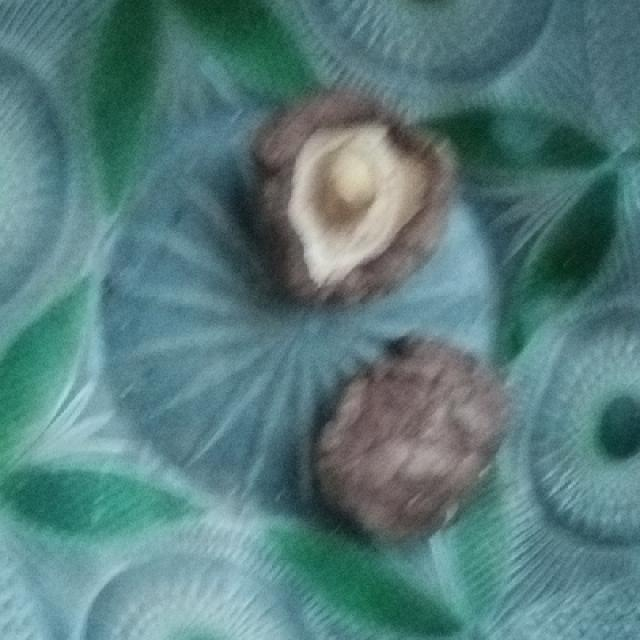Lentinus edodes: (258, 91, 461, 307), (315, 334, 505, 553)
